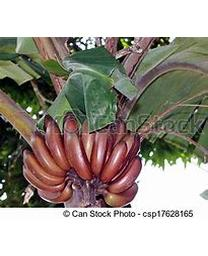banana: (21, 112, 142, 207)
